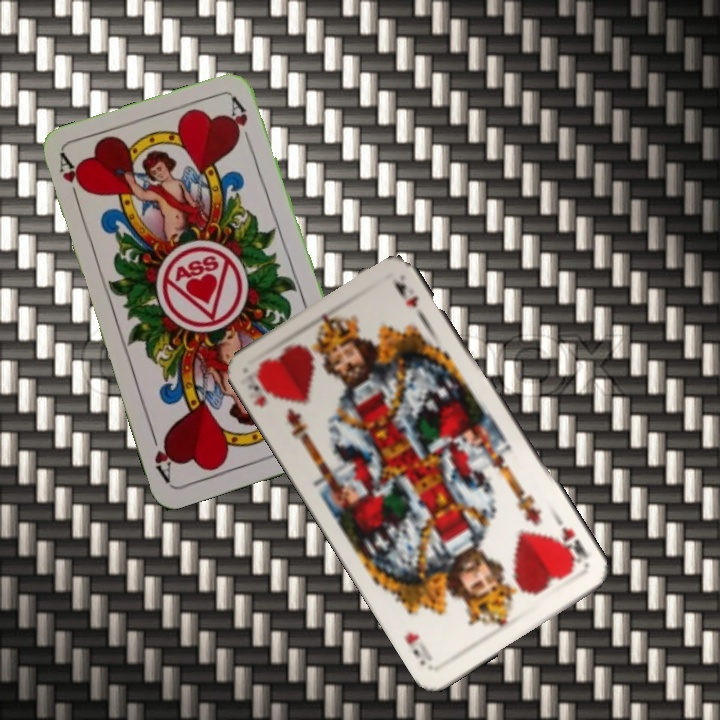HA: (54, 151, 89, 209)
HK: (237, 365, 278, 410), (552, 523, 591, 569)
